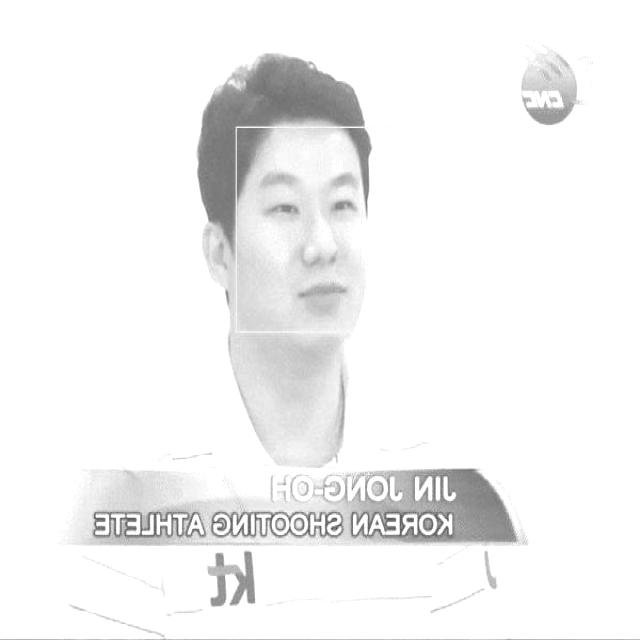fake: (236, 129, 390, 331)
